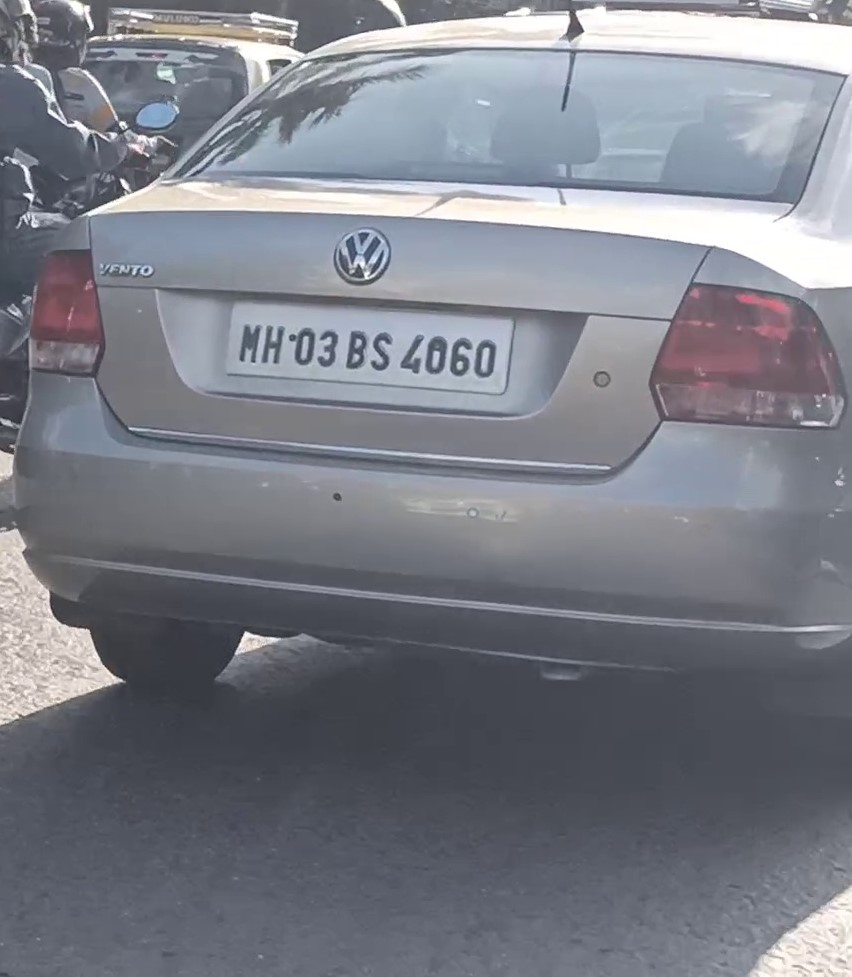MH03BS4060: (226, 302, 514, 395)
